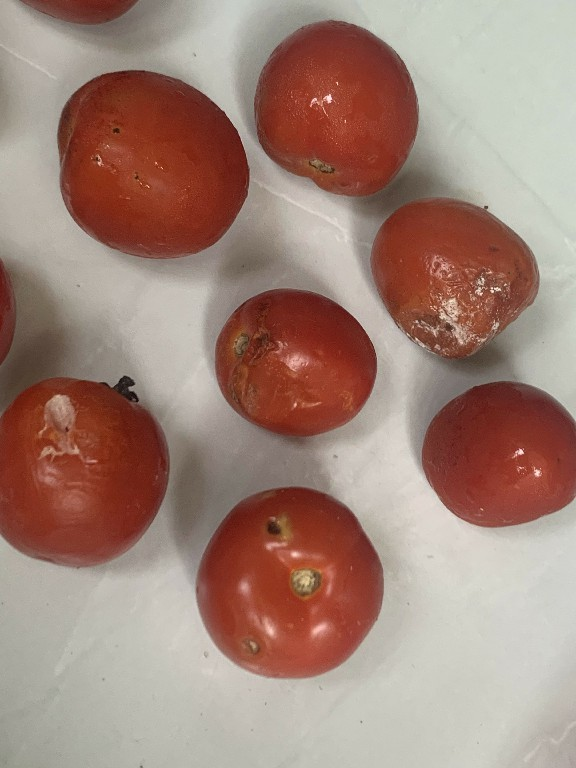NG: (49, 61, 255, 269), (185, 479, 391, 686), (0, 360, 177, 582), (375, 187, 557, 379), (209, 275, 383, 442)
OK: (248, 11, 425, 209), (417, 374, 576, 540)
